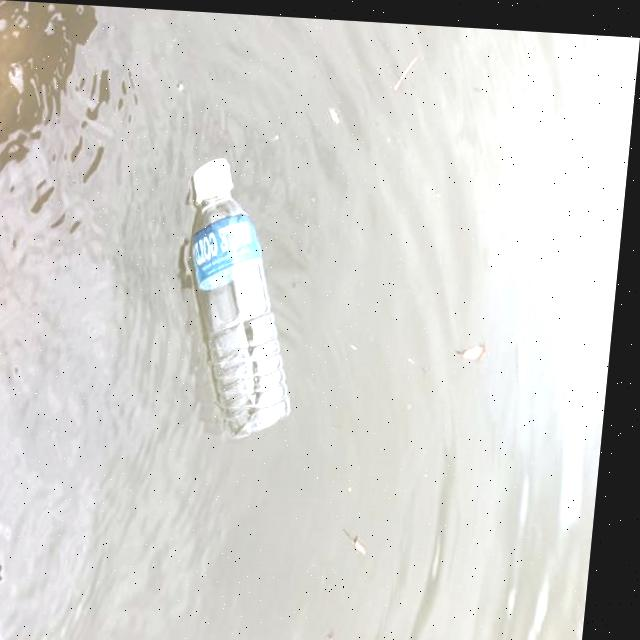paper: (170, 142, 318, 435)
